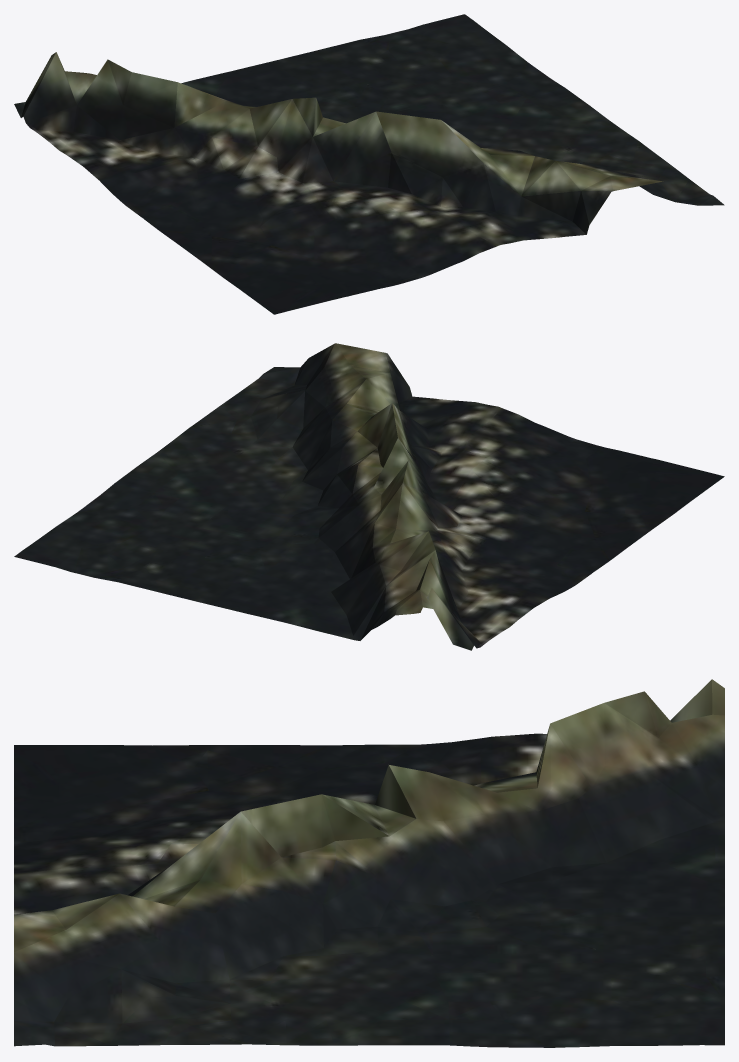
3 views of the same model, one above another, from view 1: azimuth 30°, elevation 25°; view 2: azimuth 150°, elevation 25°; view 3: azimuth 270°, elevation 25° (orthographic). The views are drawn at different scales.
Size of the model in its own units: 52.22 by 8.42 by 52.22.
3 materials, 3 textured.
